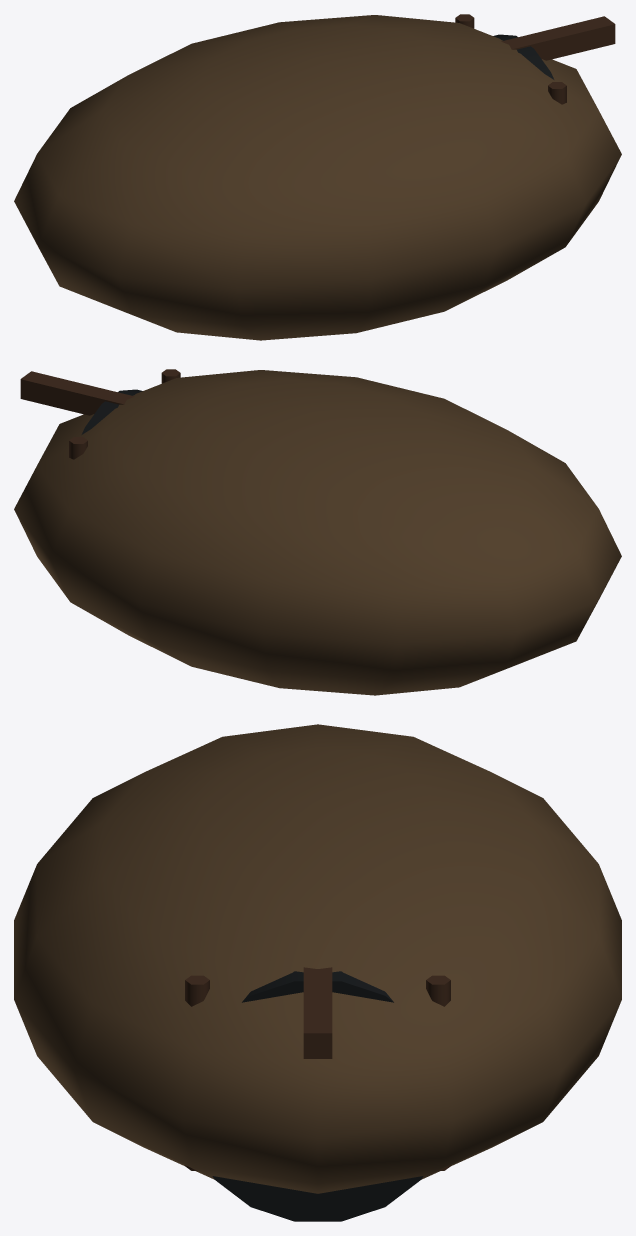
File: tunnel-entrance.glb
3 views of the same model, one above another, from view 1: azimuth 30°, elevation 25°; view 2: azimuth 150°, elevation 25°; view 3: azimuth 270°, elevation 25° (orthographic). The views are drawn at different scales.
Parts seen in each view (by area): view 1: dirtMound, woodBraceTop, darkMouth; view 2: dirtMound, woodBraceTop, darkMouth; view 3: dirtMound, darkMouth, woodBraceTop, braceLeft, braceRight.
Part boxes in pixels (x1,y1,x2,y2): dirtMound: (14, 15, 621, 340); woodBraceTop: (501, 16, 615, 60); darkMouth: (493, 34, 554, 79); dirtMound: (14, 370, 621, 695); woodBraceTop: (20, 371, 134, 415); darkMouth: (81, 389, 142, 434); dirtMound: (14, 724, 621, 1193); darkMouth: (212, 971, 423, 1221); woodBraceTop: (303, 967, 332, 1058); braceLeft: (185, 975, 209, 1170); braceRight: (426, 975, 450, 1170).
Bounding box in the file's own units: 2.43 × 0.968 × 1.72.
